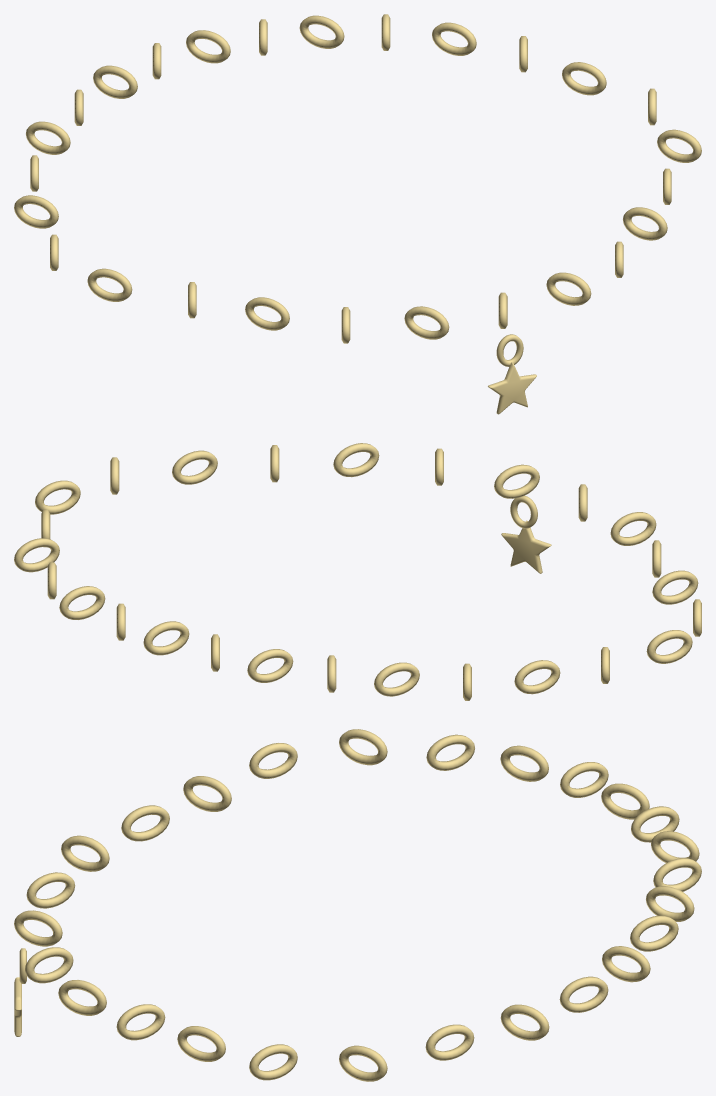
File: chain_gold_bear_tailored.glb
3 views of the same model, one above another, from view 1: azimuth 30°, elevation 25°; view 2: azimuth 150°, elevation 25°; view 3: azimuth 270°, elevation 25° (orthographic). The views are drawn at different scales.
Parts seen in each view (by area): view 1: Estrella.001, Eslabón.033, Eslabón.039, Eslabón.037, Eslabón.041, Eslabón.043, Eslabón.027, Eslabón.029, Eslabón.051, Eslabón.031, Eslabón.035, Eslabón.045 (+2 smaller); view 2: Estrella.001, Eslabón.042, Eslabón.038, Eslabón.026, Eslabón.048, Eslabón.040, Eslabón.044, Eslabón.028, Eslabón.030, Eslabón.050, Eslabón.036, Eslabón.046 (+3 smaller); view 3: Eslabón.046, Eslabón.029, Eslabón.035, Eslabón.044, Eslabón.051, Eslabón.036, Eslabón.037, Eslabón.045, Eslabón.049, Eslabón.026, Eslabón.027, Eslabón.031 (+14 smaller).
Part boxes in pixels (x1,y1,x2,y2): Estrella.001: (488,362,536,414); Eslabón.033: (562,62,606,95); Eslabón.039: (186,30,230,63); Eslabón.037: (299,15,344,48); Eslabón.041: (93,65,137,98); Eslabón.043: (26,121,70,154); Eslabón.027: (546,272,591,305); Eslabón.029: (623,207,667,240); Eslabón.051: (404,306,449,339); Eslabón.031: (657,129,701,162); Eslabón.035: (432,22,476,55); Eslabón.045: (14,195,58,228); Estrella.001: (501,520,551,573); Eslabón.042: (374,662,419,696); Eslabón.038: (143,621,189,655); Eslabón.026: (494,464,539,498); Eslabón.048: (652,570,698,604); Eslabón.040: (247,649,293,682); Eslabón.044: (514,660,560,694); Eslabón.028: (333,443,379,477); Eslabón.030: (172,450,217,484); Eslabón.050: (610,512,656,545); Eslabón.036: (59,586,105,619); Eslabón.046: (646,630,692,663); Eslabón.046: (339,729,387,765); Eslabón.029: (116,1004,165,1040); Eslabón.035: (559,976,608,1012); Eslabón.044: (500,745,548,781); Eslabón.051: (26,872,75,908); Eslabón.036: (602,946,650,982); Eslabón.037: (630,915,678,951); Eslabón.045: (426,734,474,770); Eslabón.049: (121,805,169,841); Eslabón.026: (14,910,62,946); Eslabón.027: (25,947,73,983); Eslabón.031: (249,1044,297,1080).
Size of the model in its own units: 0.6204 by 0.1488 by 0.5473.
